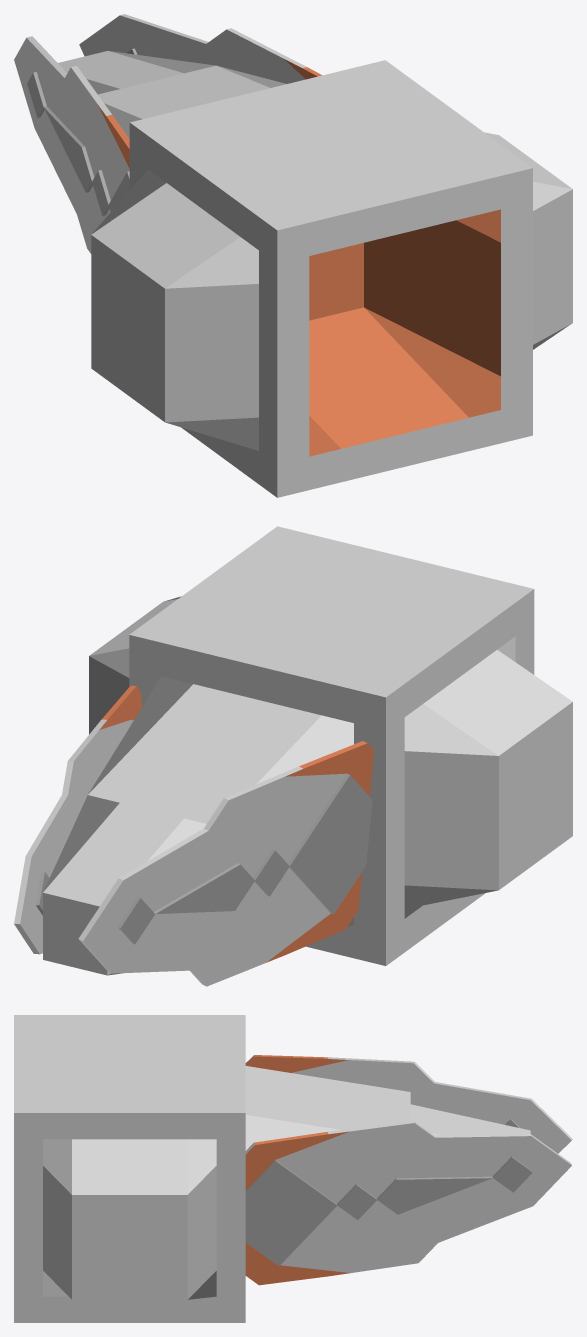
File: Tad Pod.fbx
The picture shows the model from 3 angles, top to bottom: view 1: azimuth 30°, elevation 25°; view 2: azimuth 150°, elevation 25°; view 3: azimuth 270°, elevation 25°; orthographic projection. The views are drawn at different scales.
Visible parts, largest first — view 1: Cube, Cube.001, Cube.002, Cube.008, Cube.006; view 2: Cube, Cube.002, Cube.006, Cube.008, Cube.007, Cube.010; view 3: Cube, Cube.008, Cube.009, Cube.002, Cube.010, Cube.007.
Boxes of the visible parts, x1=… form: Cube: x1=58, y1=51, x2=572, y2=497; Cube.001: x1=309, y1=209, x2=500, y2=456; Cube.002: x1=14, y1=36, x2=129, y2=253; Cube.008: x1=79, y1=14, x2=306, y2=83; Cube.006: x1=27, y1=72, x2=129, y2=215; Cube: x1=43, y1=526, x2=572, y2=975; Cube.002: x1=78, y1=766, x2=346, y2=986; Cube.006: x1=118, y1=774, x2=372, y2=944; Cube.008: x1=14, y1=719, x2=130, y2=954; Cube.007: x1=266, y1=741, x2=374, y2=962; Cube.010: x1=99, y1=685, x2=142, y2=729; Cube: x1=14, y1=1015, x2=530, y2=1322; Cube.008: x1=245, y1=1120, x2=571, y2=1272; Cube.009: x1=245, y1=1156, x2=532, y2=1265; Cube.002: x1=245, y1=1055, x2=572, y2=1153; Cube.010: x1=245, y1=1131, x2=350, y2=1285; Cube.007: x1=245, y1=1055, x2=347, y2=1072.
Bounding box in the file's own units: 319 × 200 × 483.
